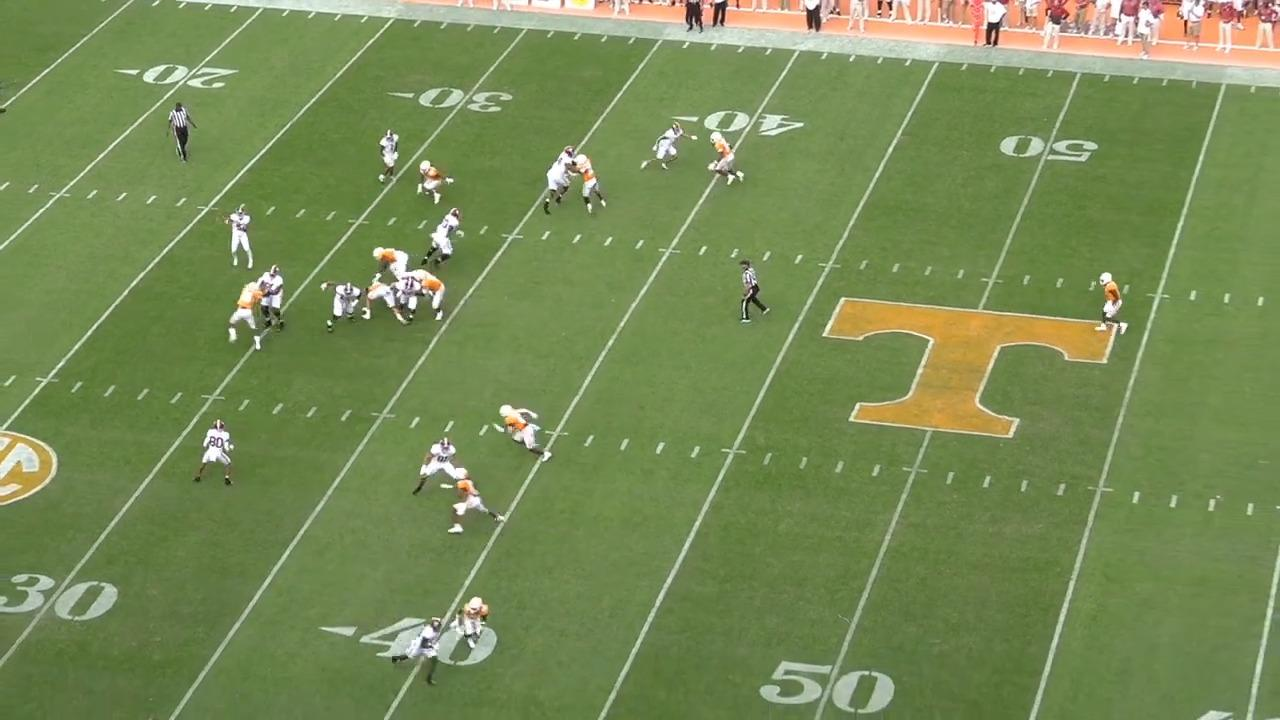player: (444, 466, 507, 538), (390, 610, 448, 686), (411, 434, 476, 499), (492, 402, 550, 465), (191, 415, 239, 488), (417, 205, 464, 270), (225, 280, 264, 355), (641, 119, 693, 174), (545, 142, 583, 215), (566, 151, 607, 217), (360, 275, 410, 326), (704, 126, 745, 187), (320, 281, 365, 334), (457, 597, 495, 659), (256, 263, 288, 333), (1098, 270, 1130, 337), (224, 202, 256, 269), (411, 270, 447, 326), (412, 157, 451, 206), (372, 245, 416, 284), (377, 127, 405, 187), (390, 277, 423, 322)
ref: (737, 255, 774, 327), (172, 102, 200, 166)
